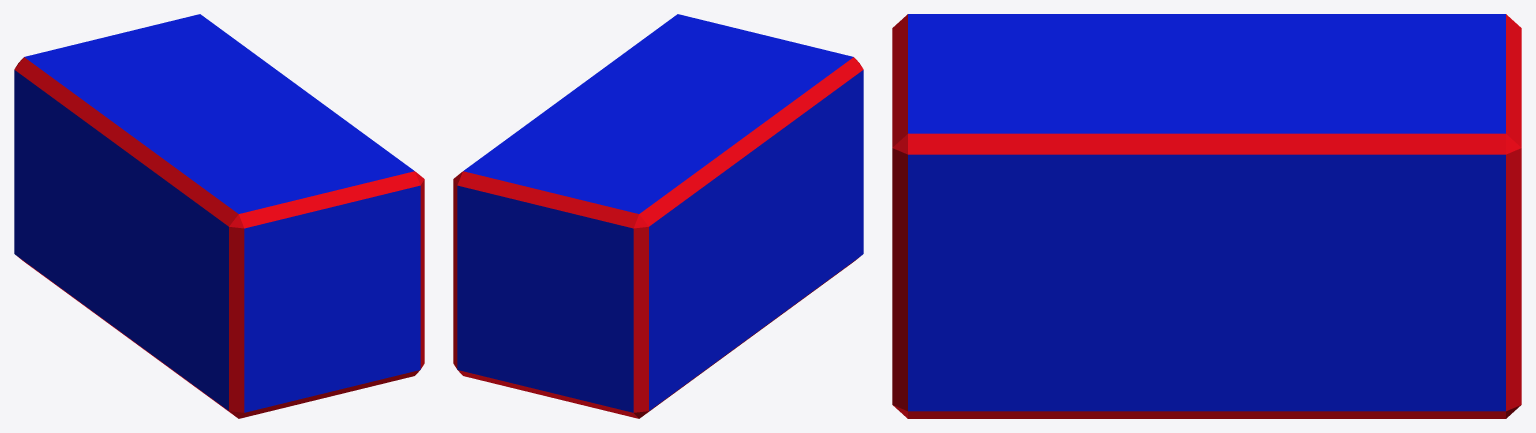
The model's file is L5_Little_Platform_2.fbx.
3 views of the same model, side by side, from view 1: azimuth 30°, elevation 25°; view 2: azimuth 150°, elevation 25°; view 3: azimuth 270°, elevation 25° (orthographic). The views are drawn at different scales.
Visible parts, largest first — view 1: L5_Little_Platform_2; view 2: L5_Little_Platform_2; view 3: L5_Little_Platform_2.
Boxes of the visible parts, bbox=[...] form: L5_Little_Platform_2: bbox=[14, 14, 424, 418]; L5_Little_Platform_2: bbox=[453, 14, 863, 418]; L5_Little_Platform_2: bbox=[892, 14, 1521, 418].
Bounding box in the file's own units: 100 × 100 × 200.
